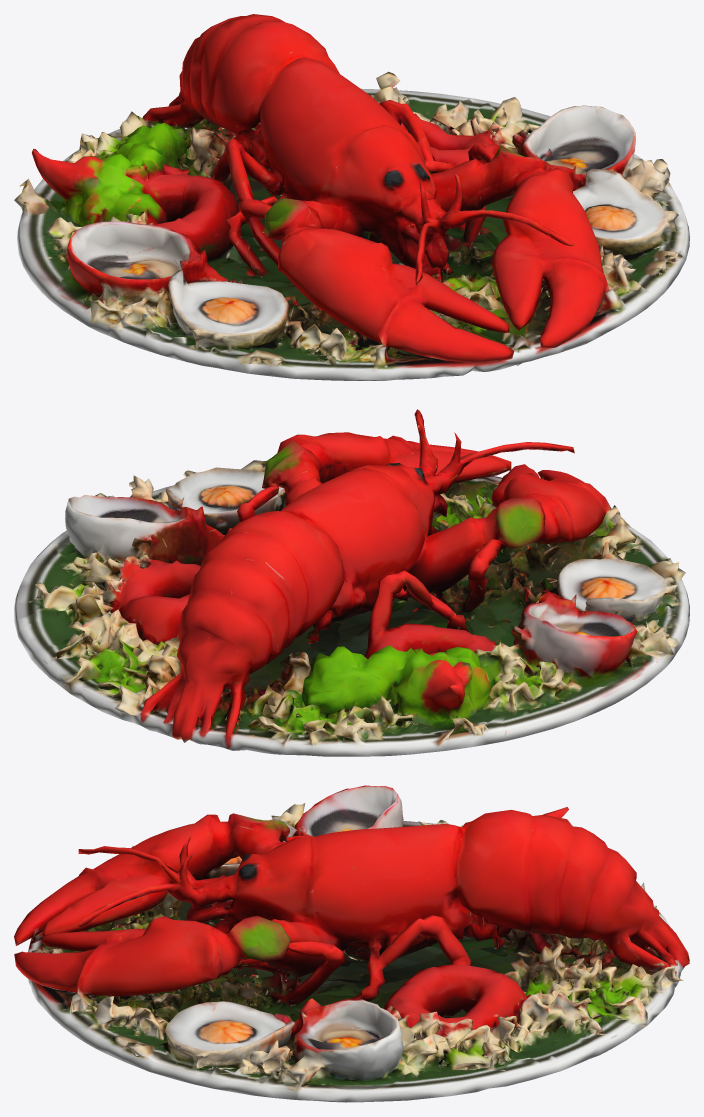
The model's file is seafood.glb.
The picture shows the model from 3 angles, top to bottom: view 1: azimuth 30°, elevation 25°; view 2: azimuth 150°, elevation 25°; view 3: azimuth 270°, elevation 25°; orthographic projection. The views are drawn at different scales.
Bounding box in the file's own units: 1.84 × 0.5544 × 1.91.
1 material, 1 textured.
